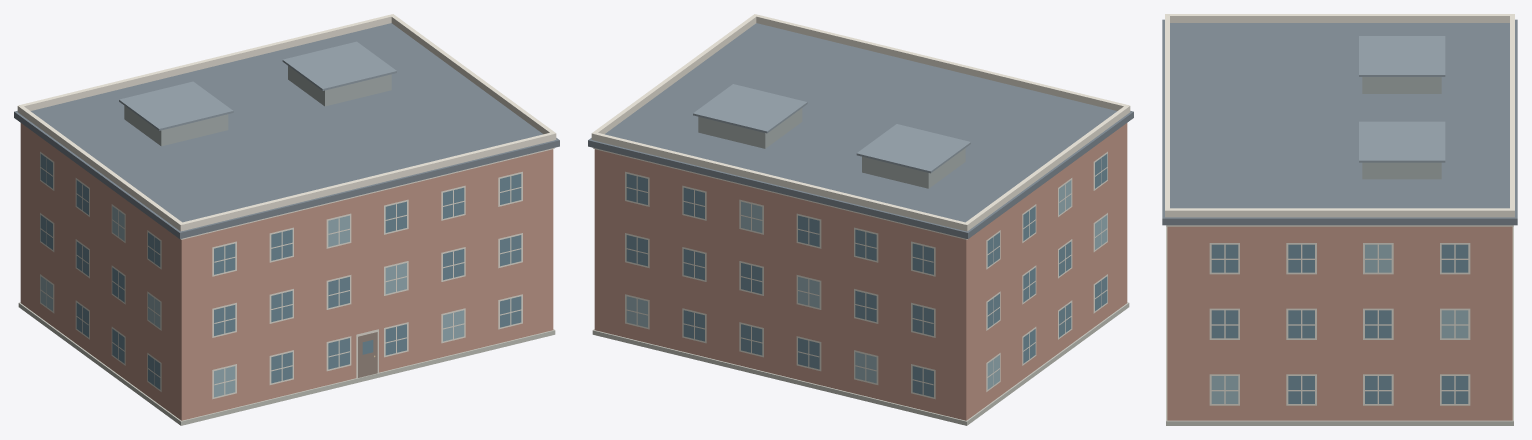
Rendered from apartment-brick.glb.
3 renders of one model, left to right at view 1: azimuth 30°, elevation 25°; view 2: azimuth 150°, elevation 25°; view 3: azimuth 270°, elevation 25°, orthographic. The views are drawn at different scales.
Parts seen in each view (by area): view 1: apartment-brick; view 2: apartment-brick; view 3: apartment-brick.
Boxes of the visible parts, bbox=[...] form: apartment-brick: bbox=[14, 14, 559, 425]; apartment-brick: bbox=[588, 14, 1133, 425]; apartment-brick: bbox=[1162, 14, 1517, 425].
Size of the model in its own units: 20.45 by 11.02 by 15.45.
